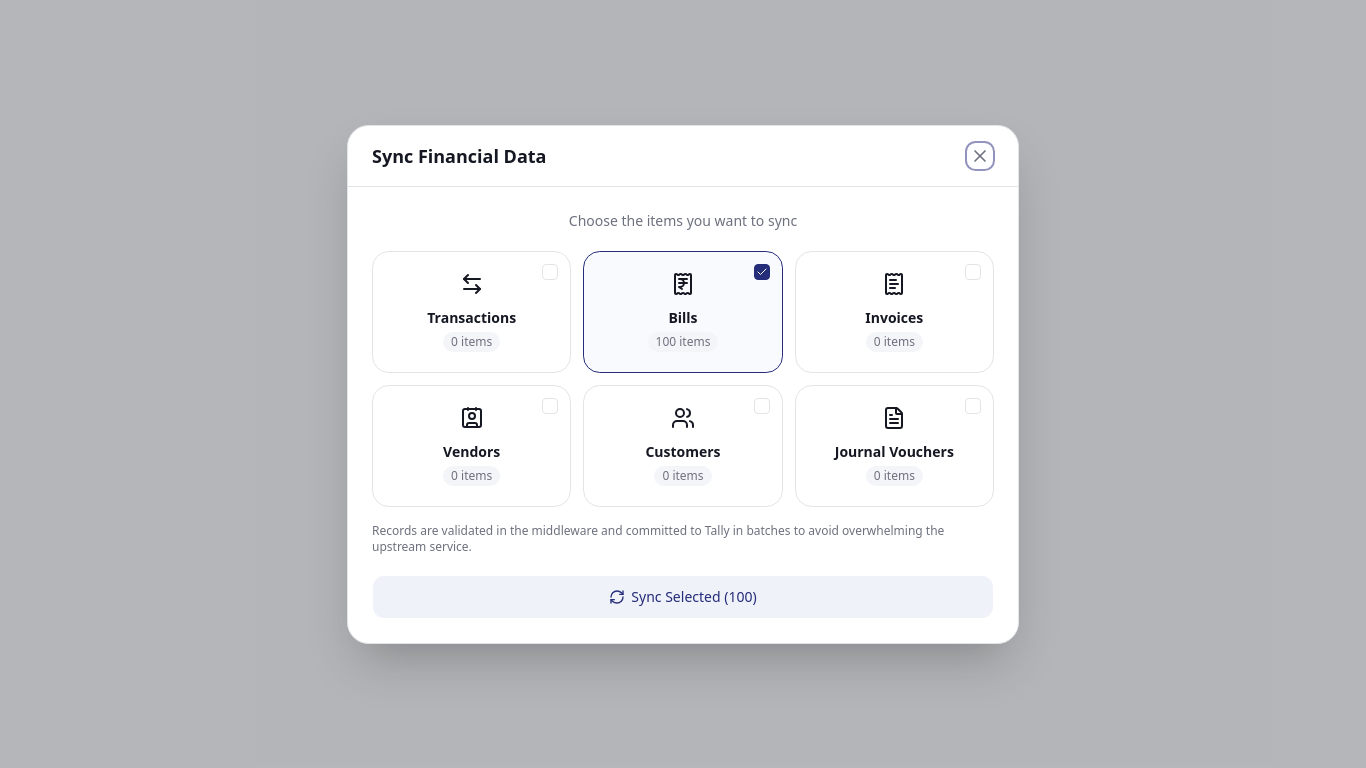
Test: SyncModal › surfaces a failed run's error
Click the button "Sync Selected (100)": [683, 596] box [372, 574, 994, 618]
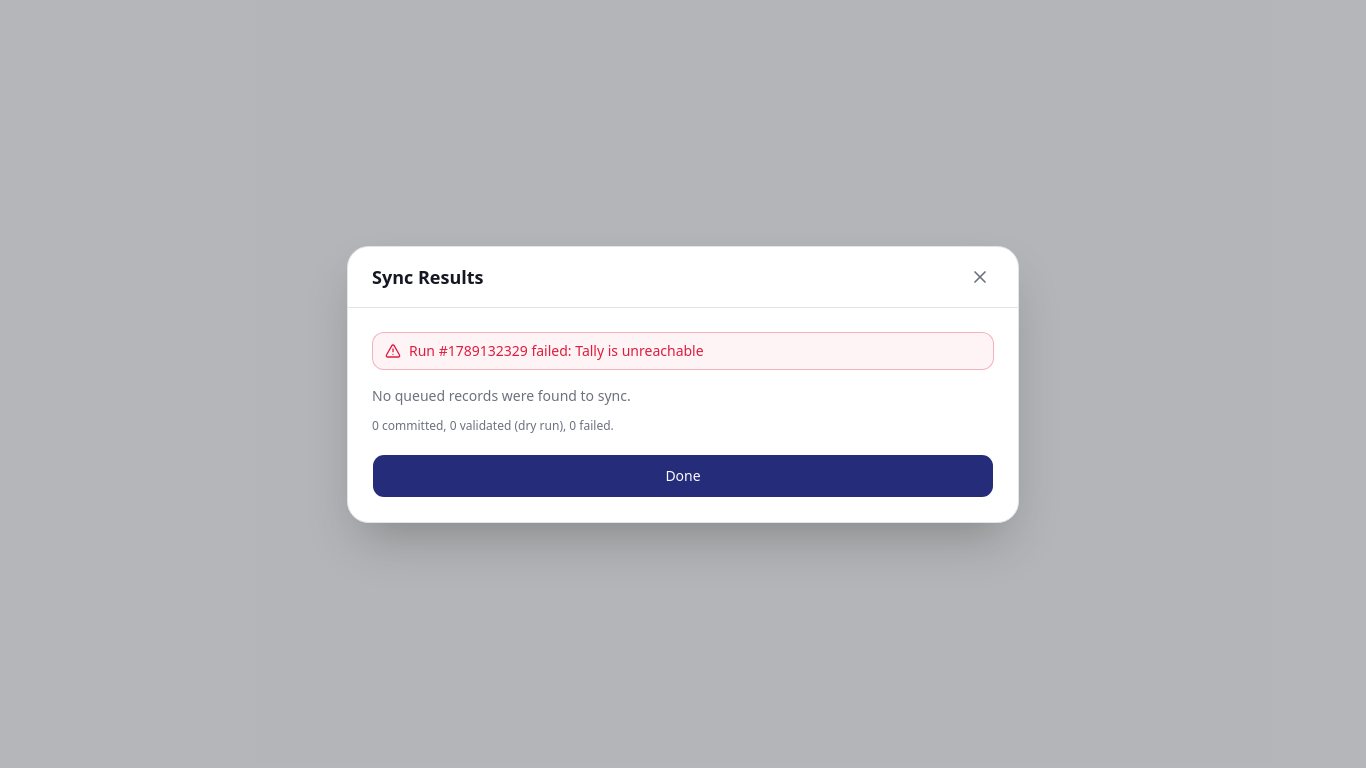
expect the text "Run #1789132329 failed: Tally is unreachable" is shown: met, box [372, 332, 994, 370]
expect the text "No queued records were found to sync." is shown: met, box [372, 386, 631, 404]
